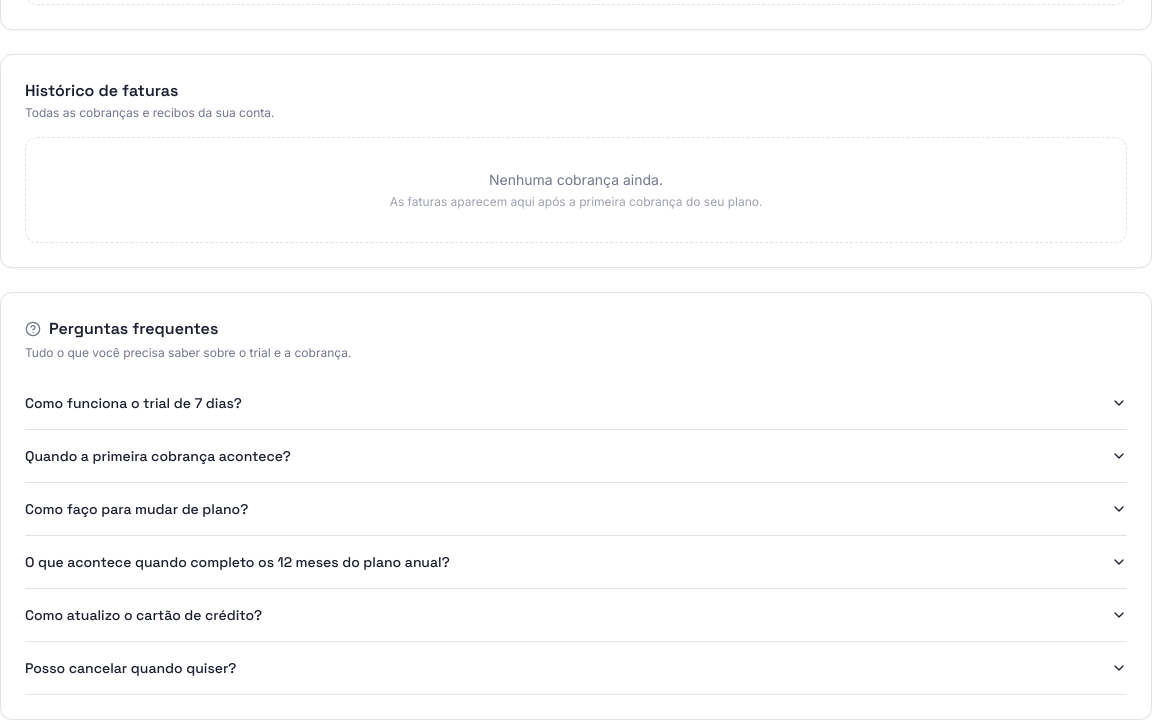
Test: P55 — FAQ de cobrança e troca › explica teste encerrado e retomada com dias pagos
The width and height of the screenshot is (1152, 720).
(page scrolled)
Click the button "Quando a primeira cobrança acontece?".
click(158, 456)  # box [25, 430, 1127, 482]
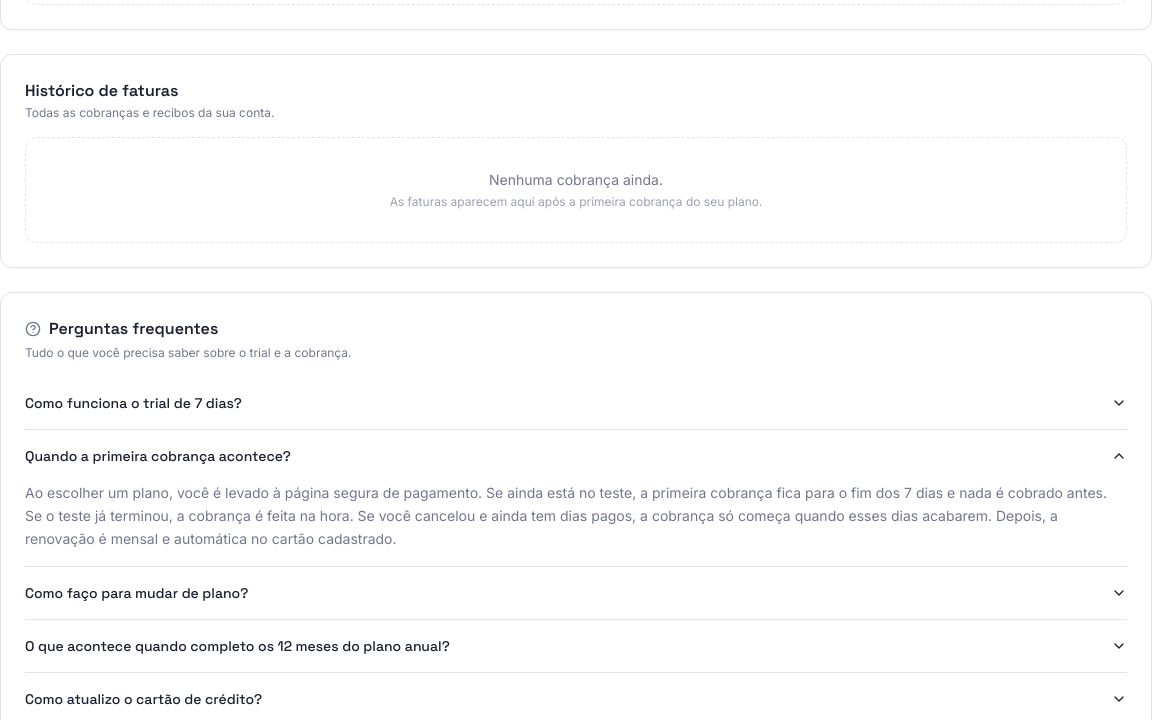
Expected: the text "Se o teste já terminou, a cobrança é feita na hora" is shown, [25, 484, 1107, 546]
Expected: the text "Se você cancelou e ainda tem dias pagos, a cobrança só começa quando esses dias acabarem" is shown, [25, 484, 1107, 546]
